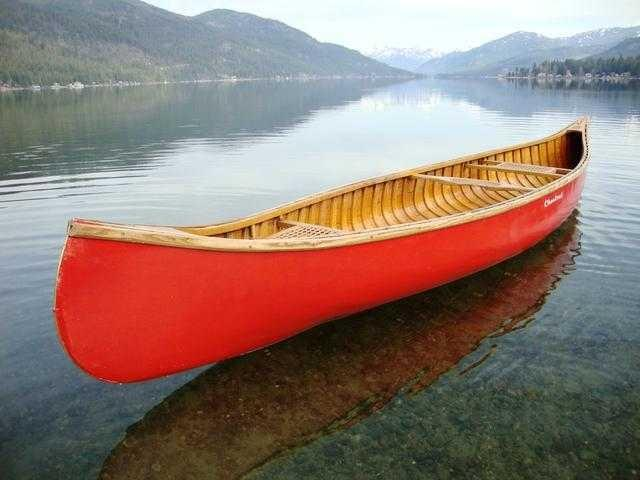kayak: (55, 119, 593, 387)
